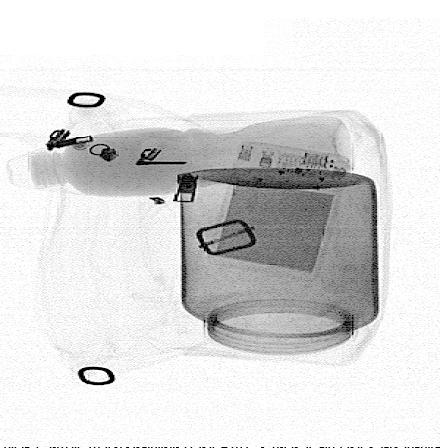Powerbank: (204, 140, 354, 281)
